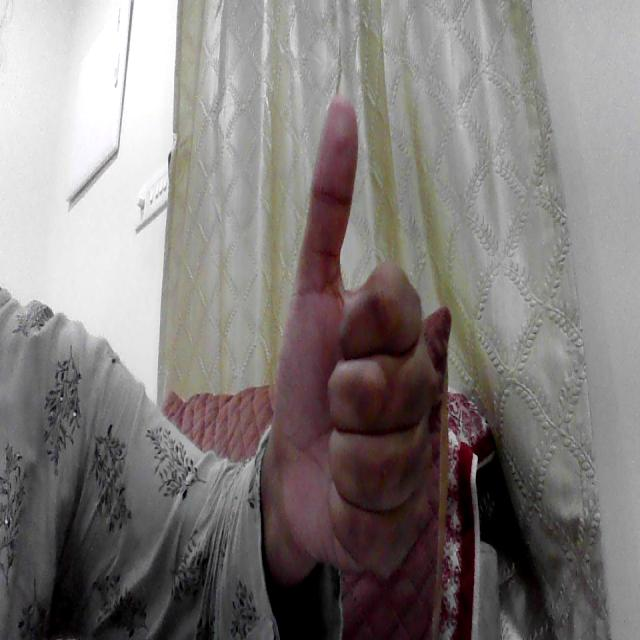Shikhara: (257, 72, 458, 608)
